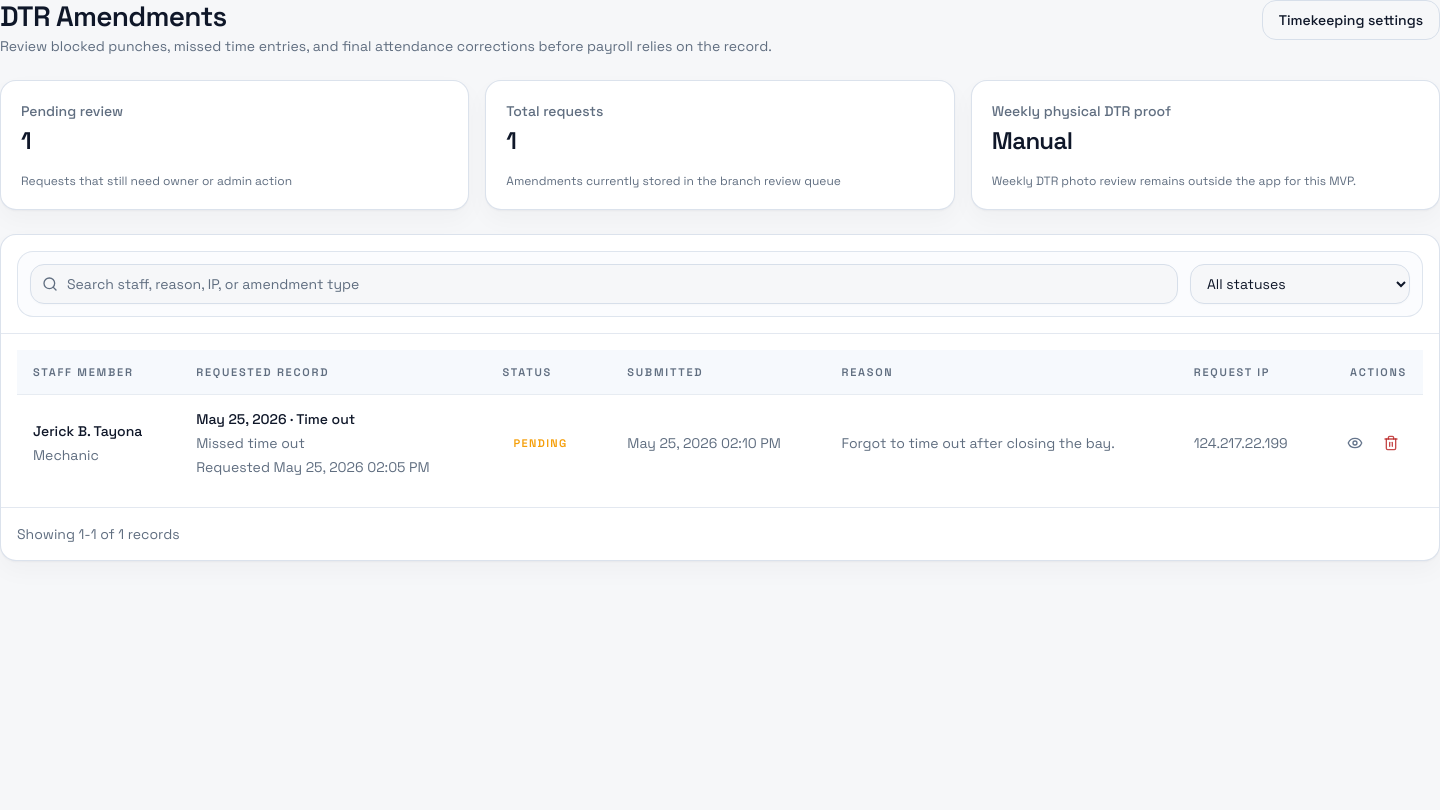
Test: AttendanceAmendmentsPageContent › opens the review dialog from the row review action
The image size is (1440, 810).
Click the button named "Review amendment for Jerick B. Tayona" at [1355, 442], box [1339,426,1371,458]
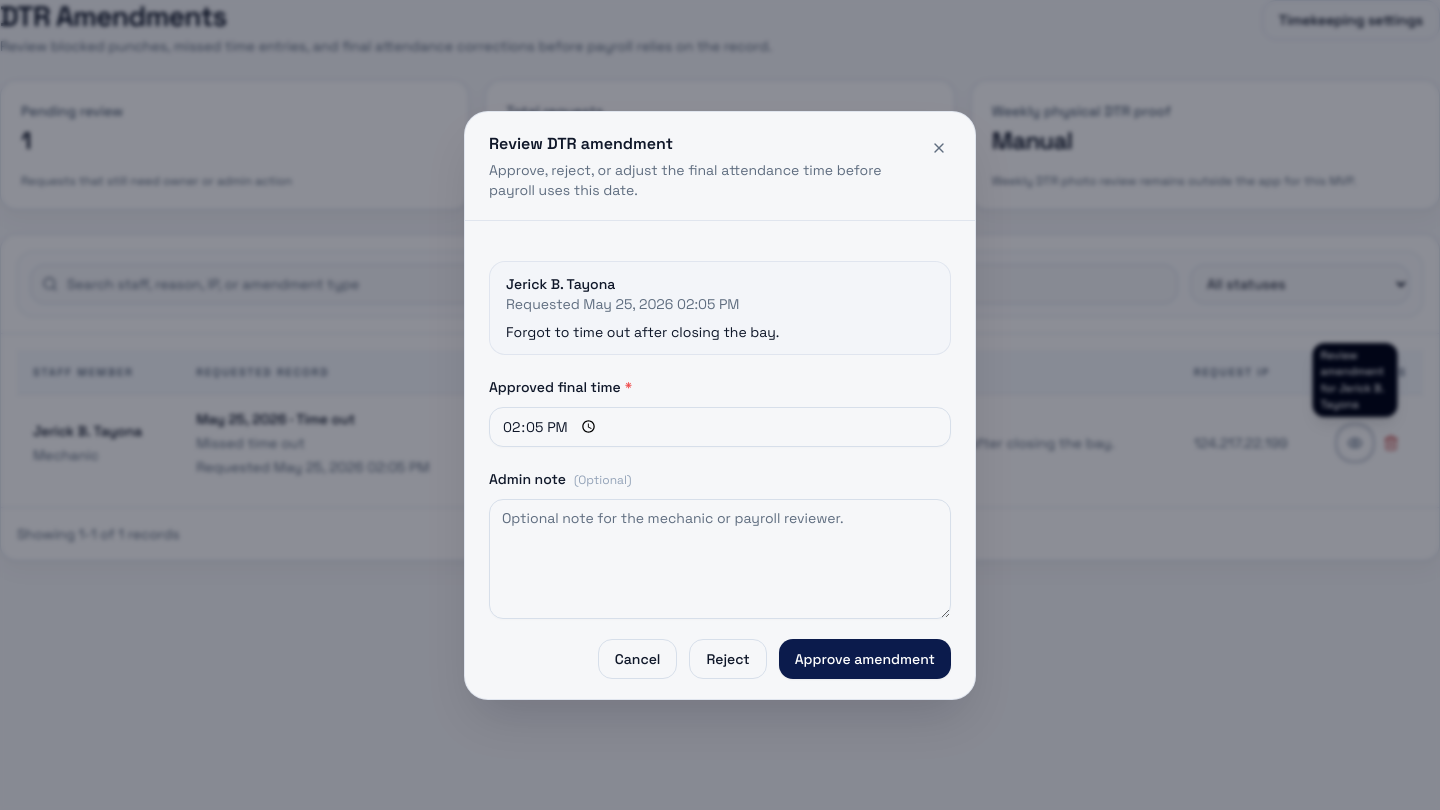
Check: the dialog "Review DTR amendment" is shown, box [464,110,976,700]
Check: the button "Approve amendment" is shown, box [779,638,951,678]
